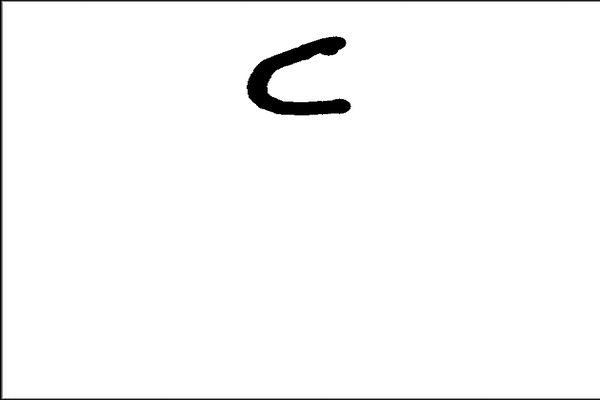C: (243, 28, 358, 119)
